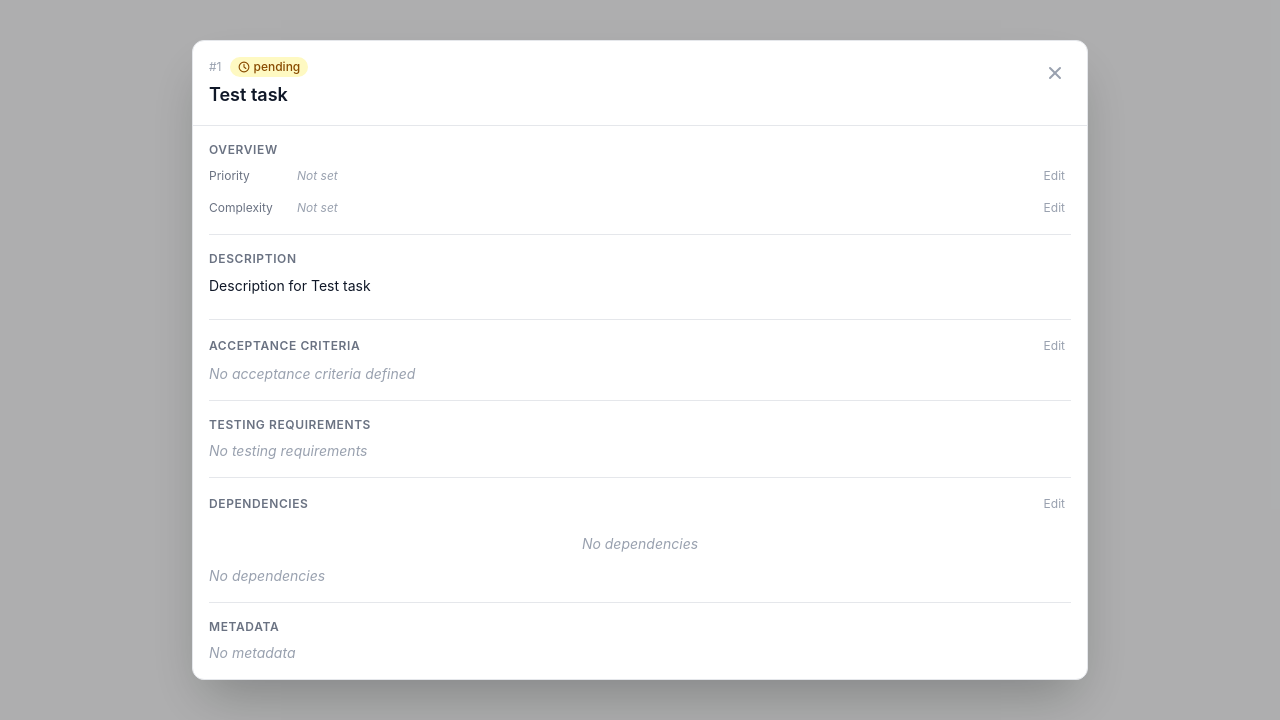
Test: TaskDetailPanel inline editing › blocked_by editing › shows blocked_by multi-select editor when edit is clicked
Step 1. Click the button with test id "edit-blocked_by-button" → coordinates (1054, 504), box [1038,494,1071,514]
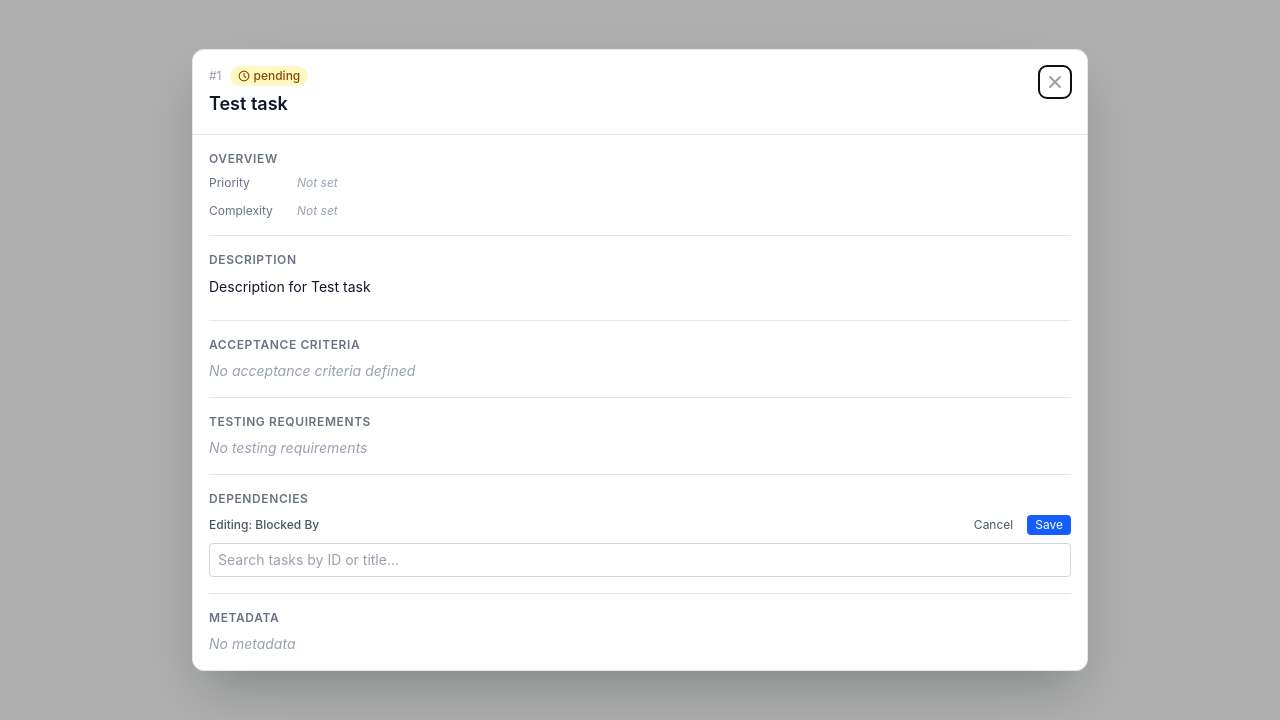
Expected: the dropdown with test id "blocked-by-search" is shown, [209,543,1071,577]
